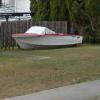Boat: (7, 24, 92, 55)
